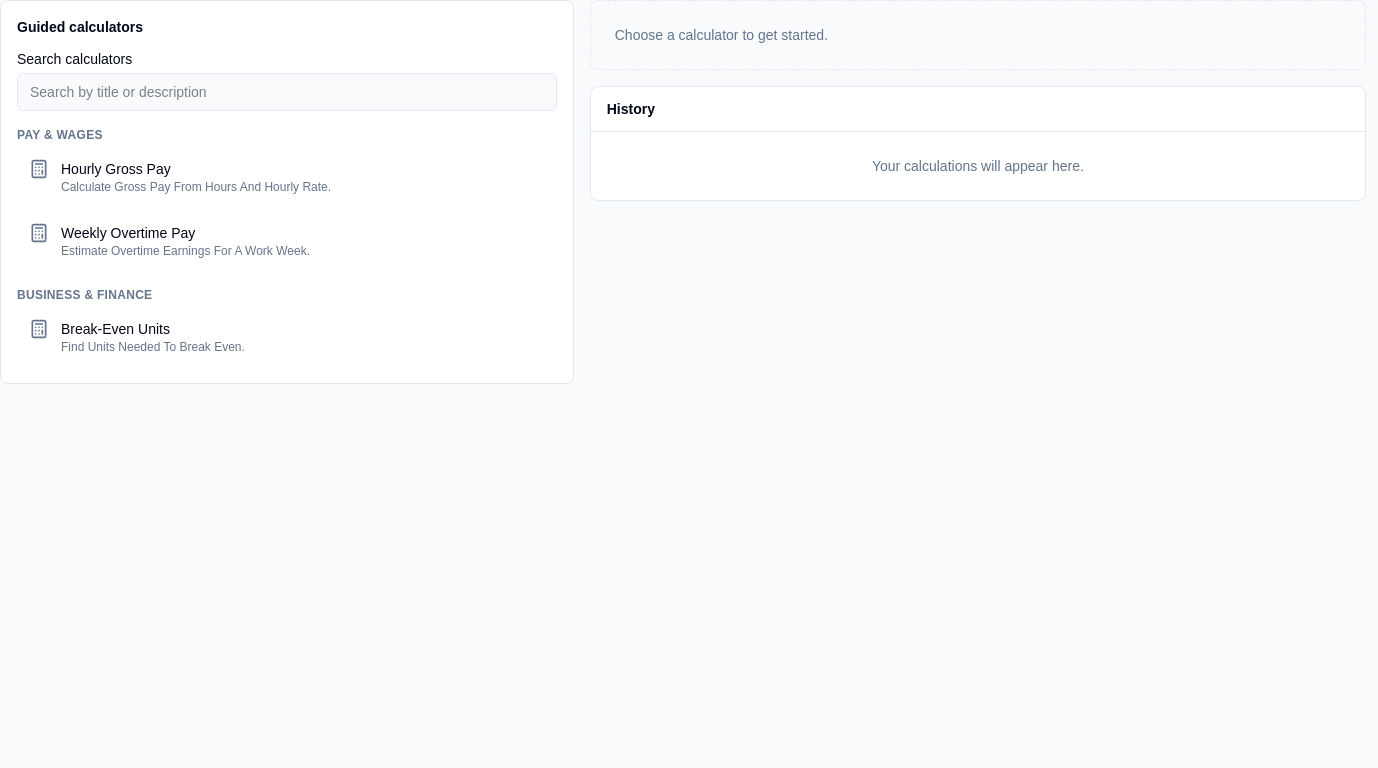
MhdGuidedCalculator › evaluates valid input, formats the result, and records history
Click the button "Hourly Gross Pay". click: click(287, 177)
box: x1=17 y1=147 x2=557 y2=207
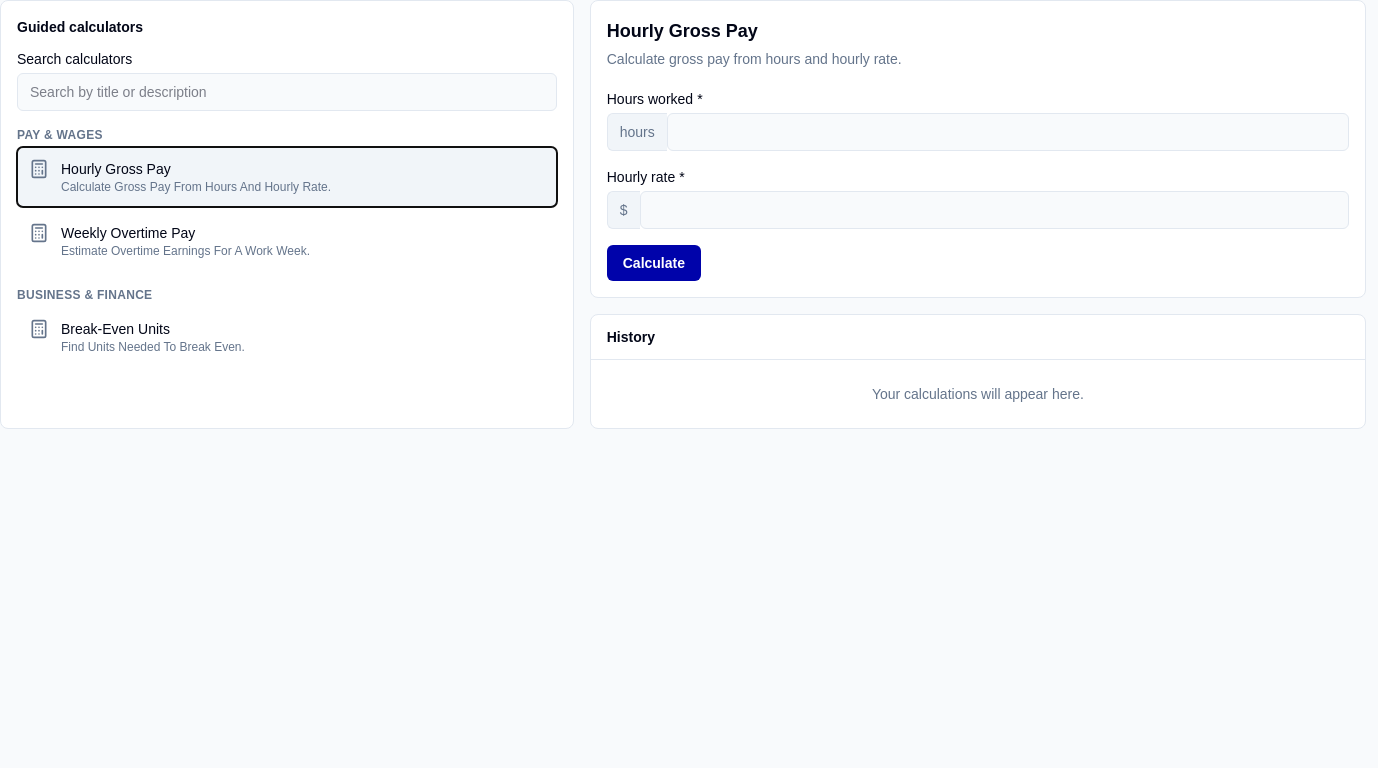
Type "40" into the number field labelled "Hours worked*". click: (1008, 132)
box: x1=667 y1=113 x2=1349 y2=151
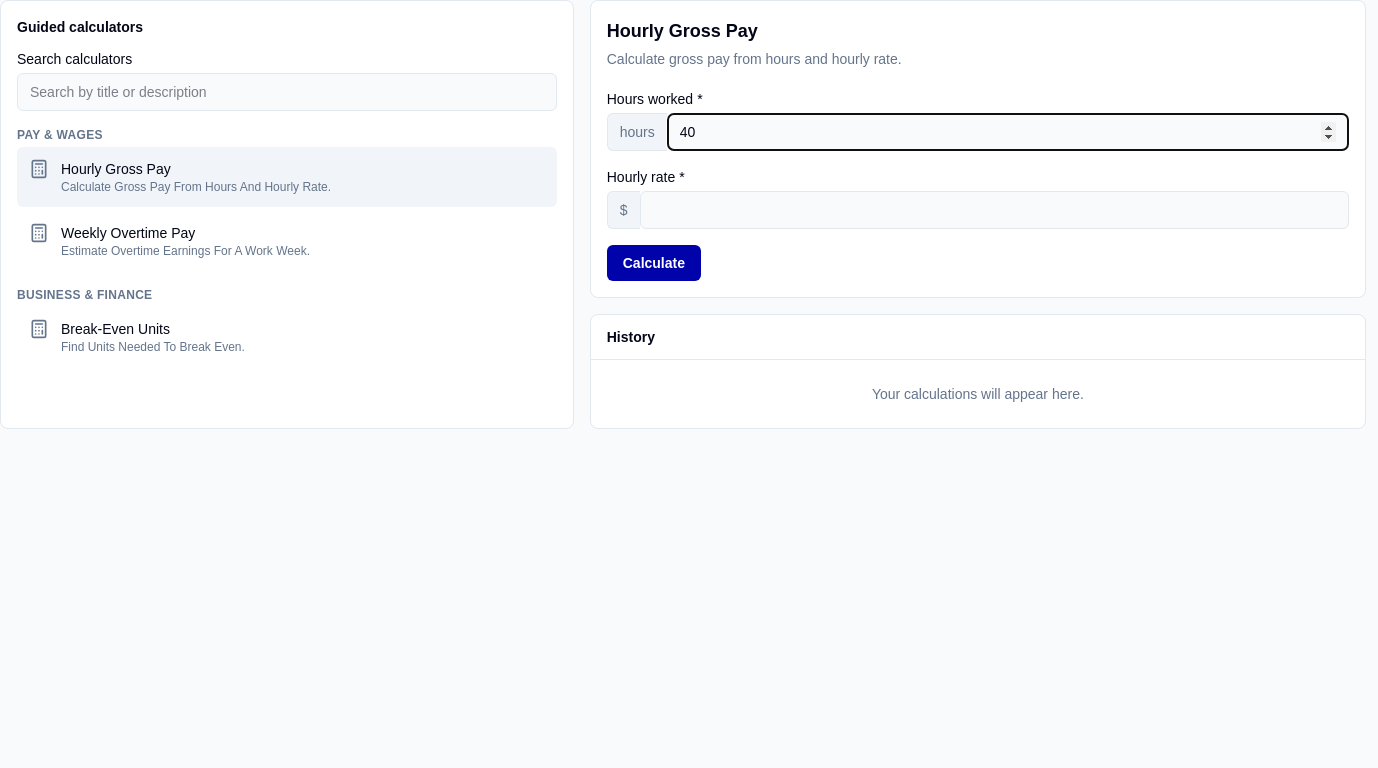
Type "25" into the number field labelled "Hourly rate*". click: (994, 210)
box: x1=640 y1=191 x2=1349 y2=229
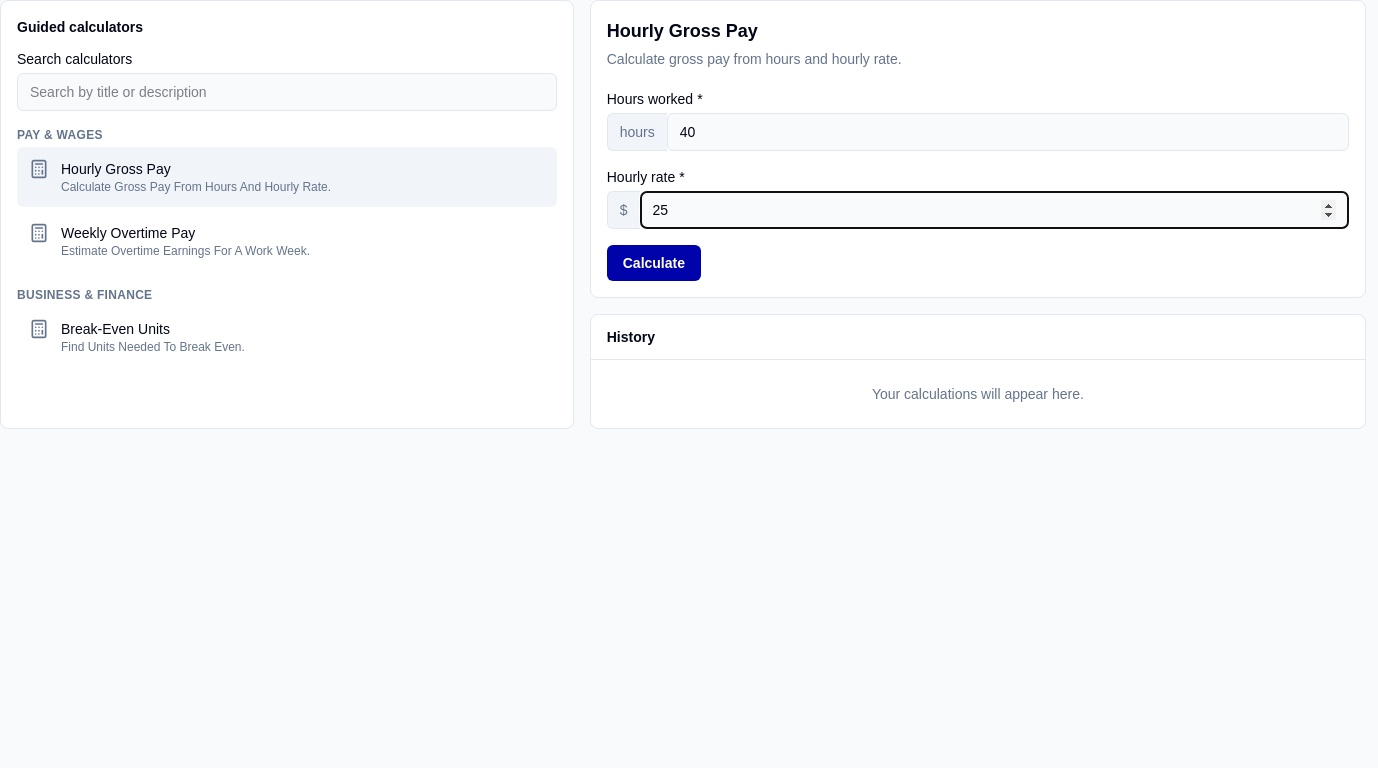
Click the button "Calculate". click: click(654, 263)
box: x1=607 y1=245 x2=701 y2=281
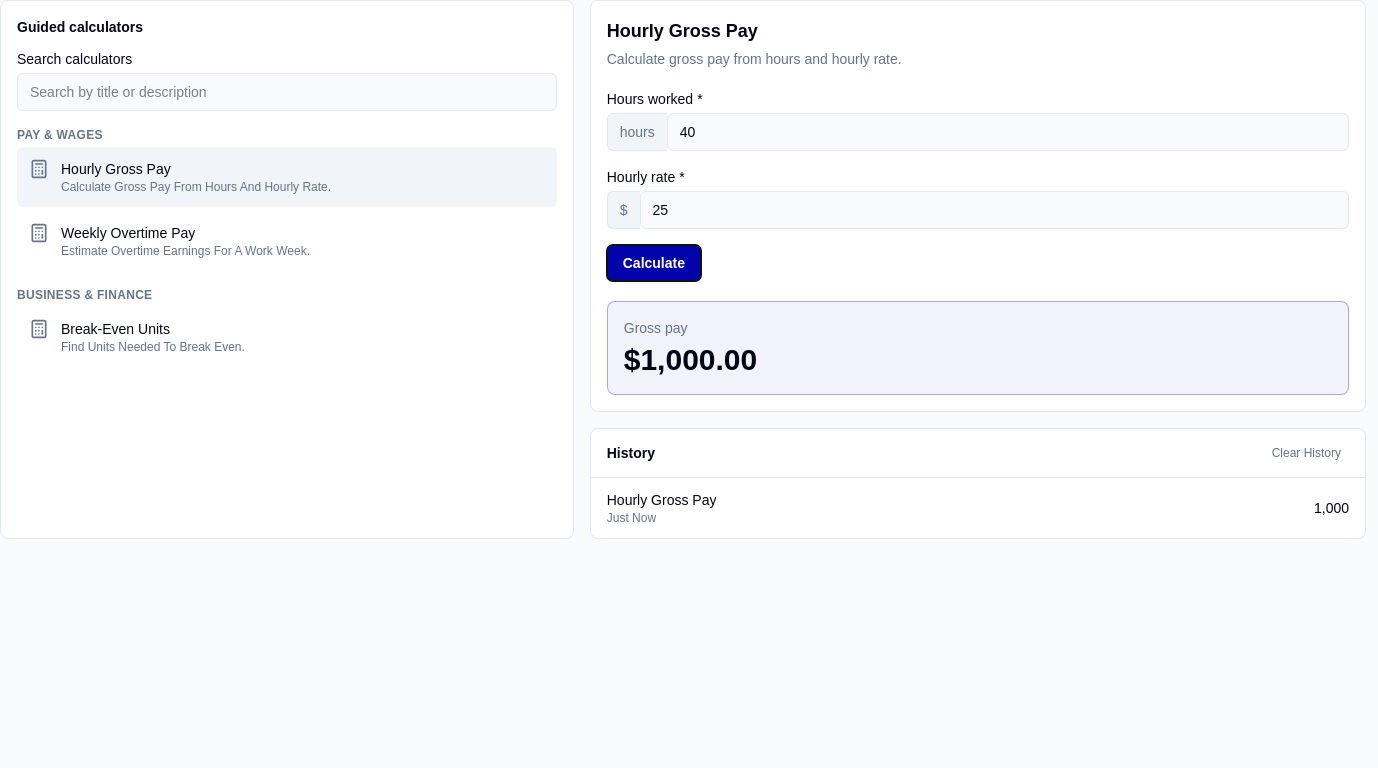
Expected: the text "$1,000.00" is shown, x1=624 y1=343 x2=757 y2=376
